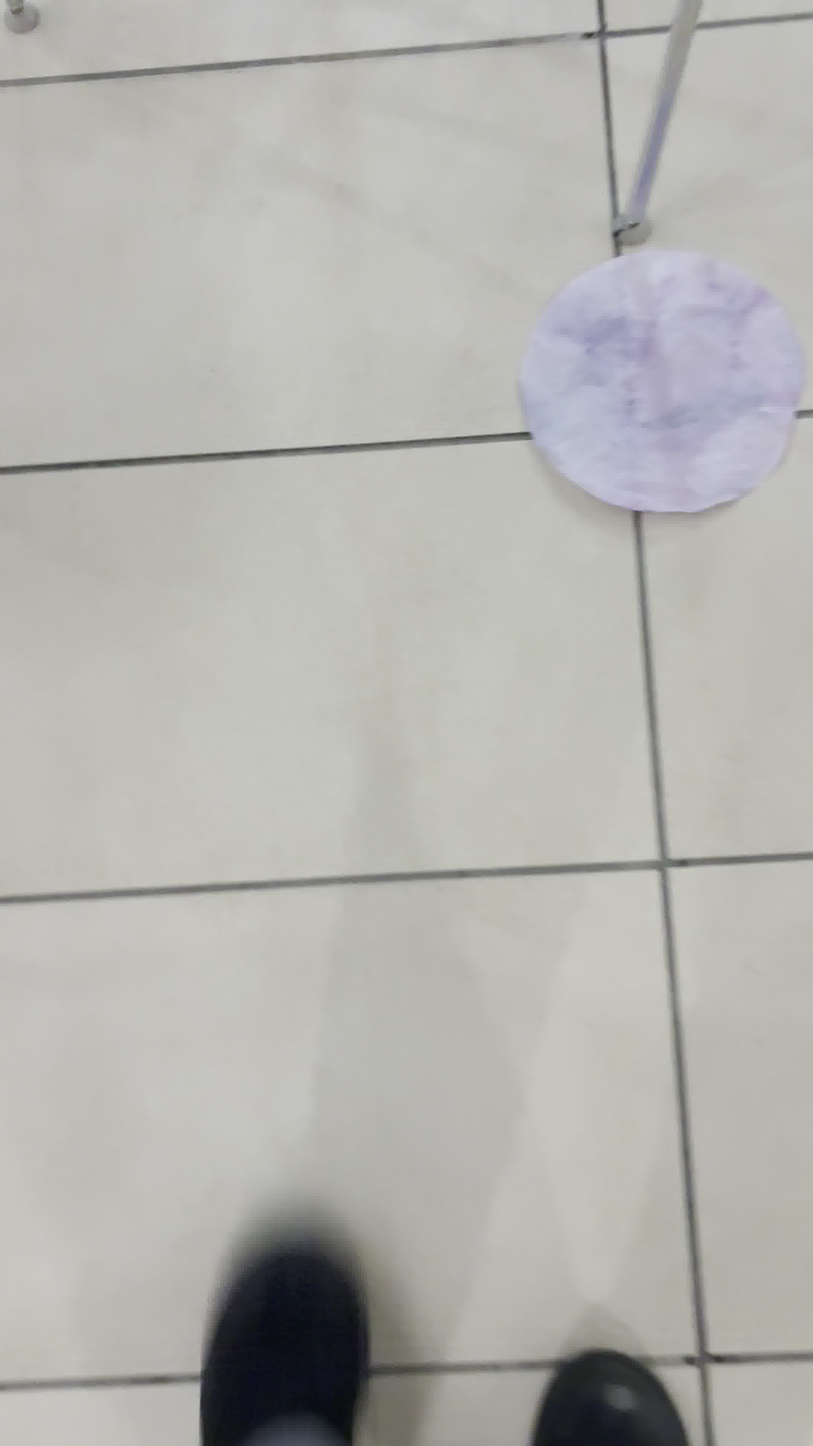Target: (514, 258, 797, 527)
